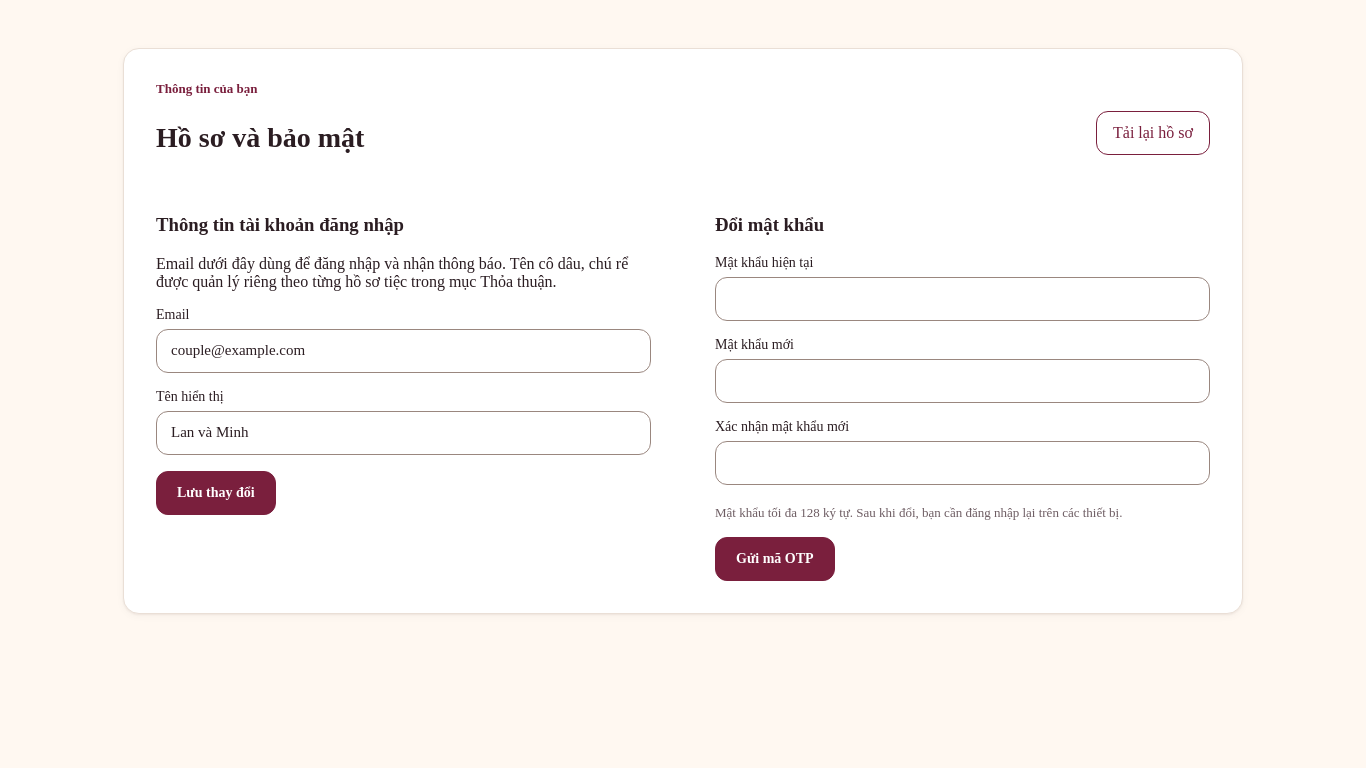
Test: account password OTP errors › shows the server wait, prevents repeated requests and preserves the entered passwords
Type "Initial-password-123" into the password field labelled "Mật khẩu hiện tại" at (962, 299), box x1=715 y1=277 x2=1210 y2=321
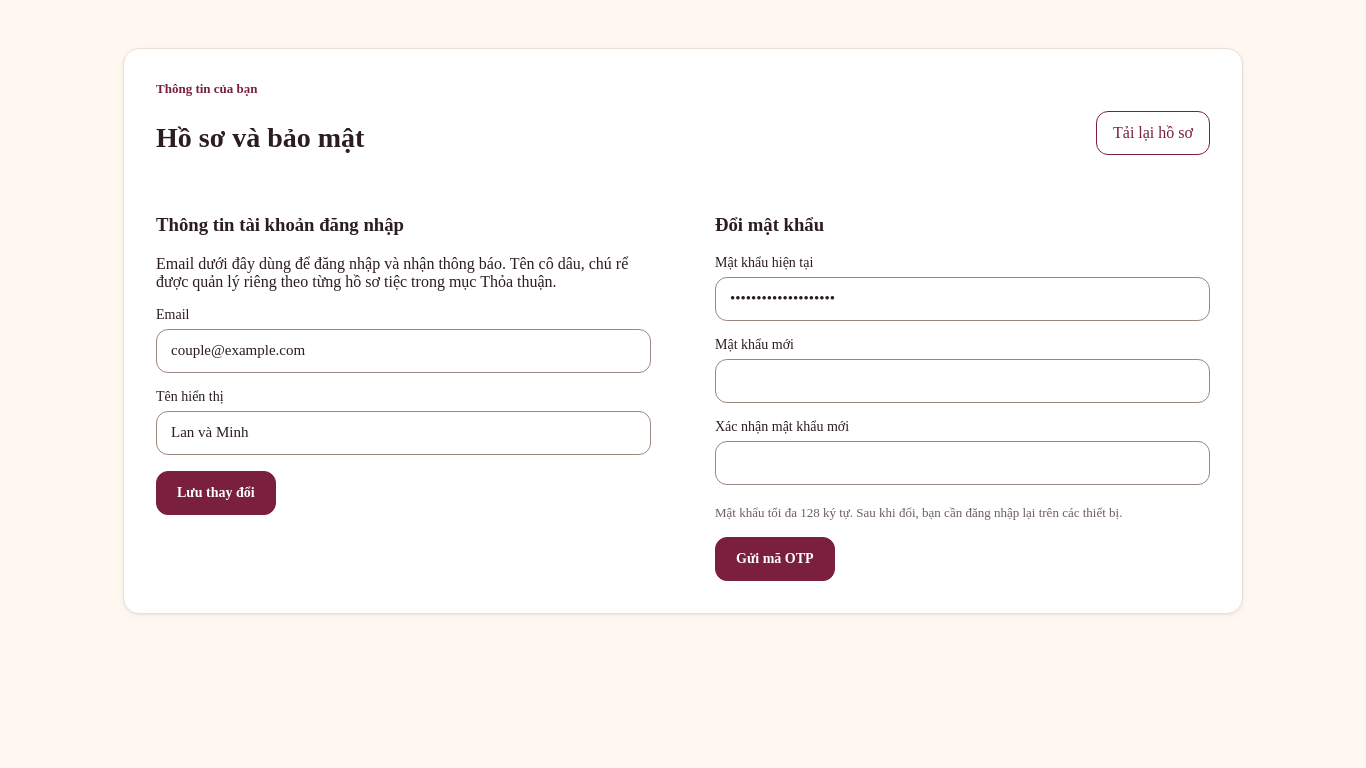
Type "Replacement-password-123" into the password field labelled "Mật khẩu mới" at (962, 381), box x1=715 y1=359 x2=1210 y2=403
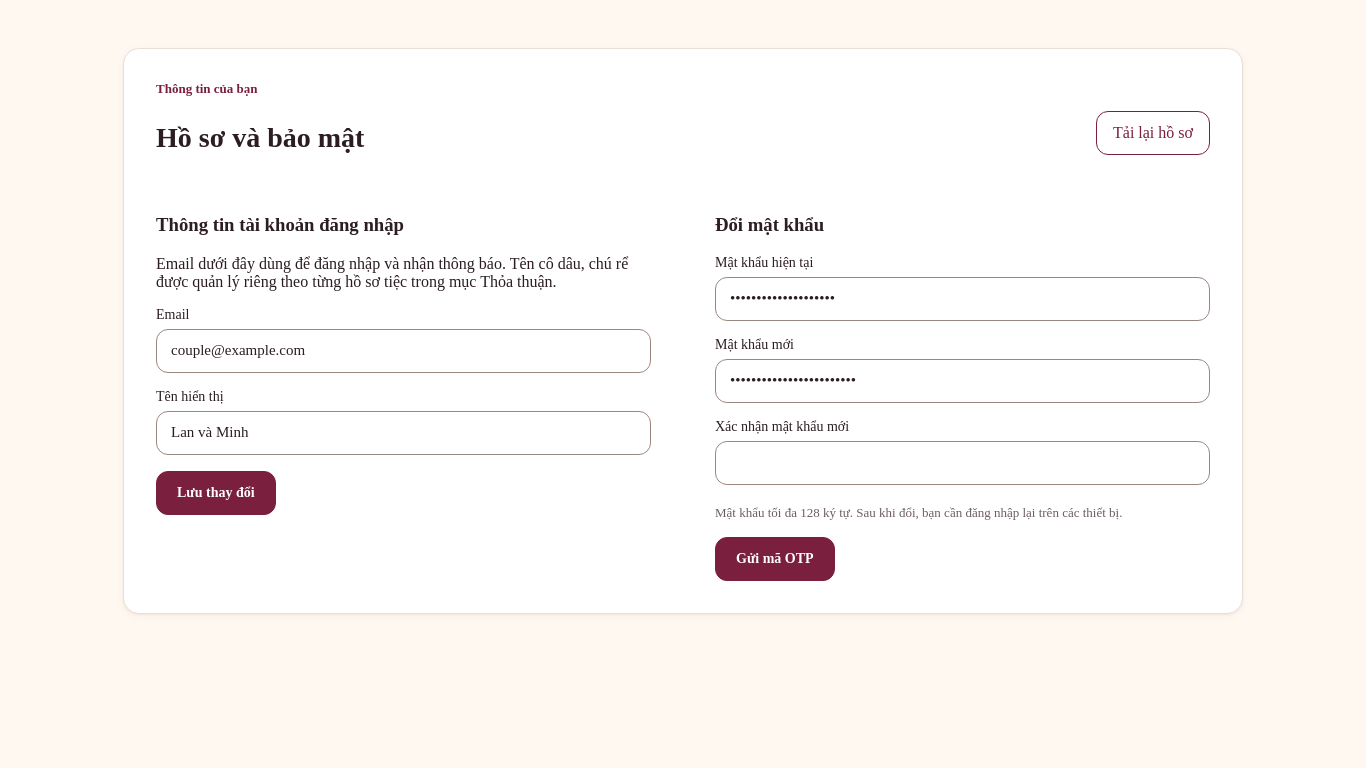
Type "Replacement-password-123" into the password field labelled "Xác nhận mật khẩu mới" at (962, 463), box x1=715 y1=441 x2=1210 y2=485
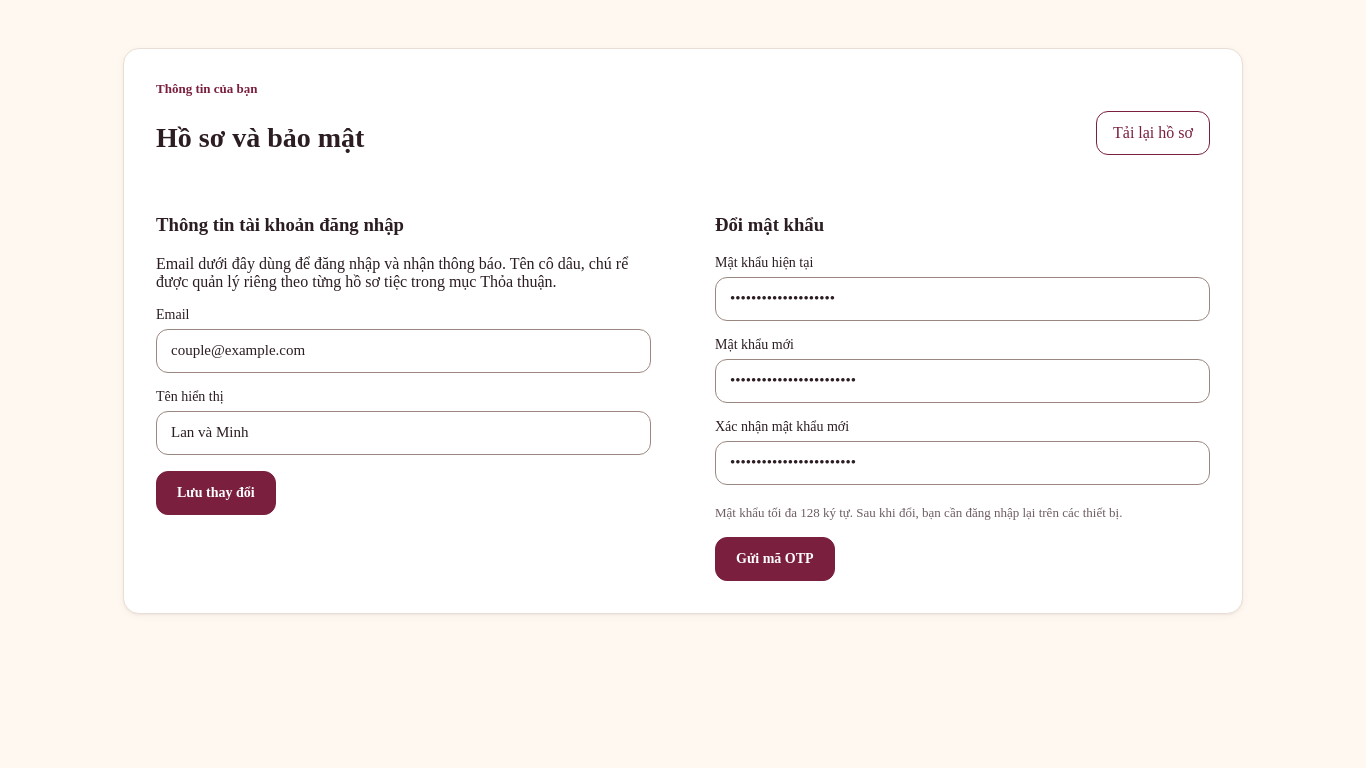
Click the button "Gửi mã OTP" at (775, 559), box x1=715 y1=537 x2=835 y2=581
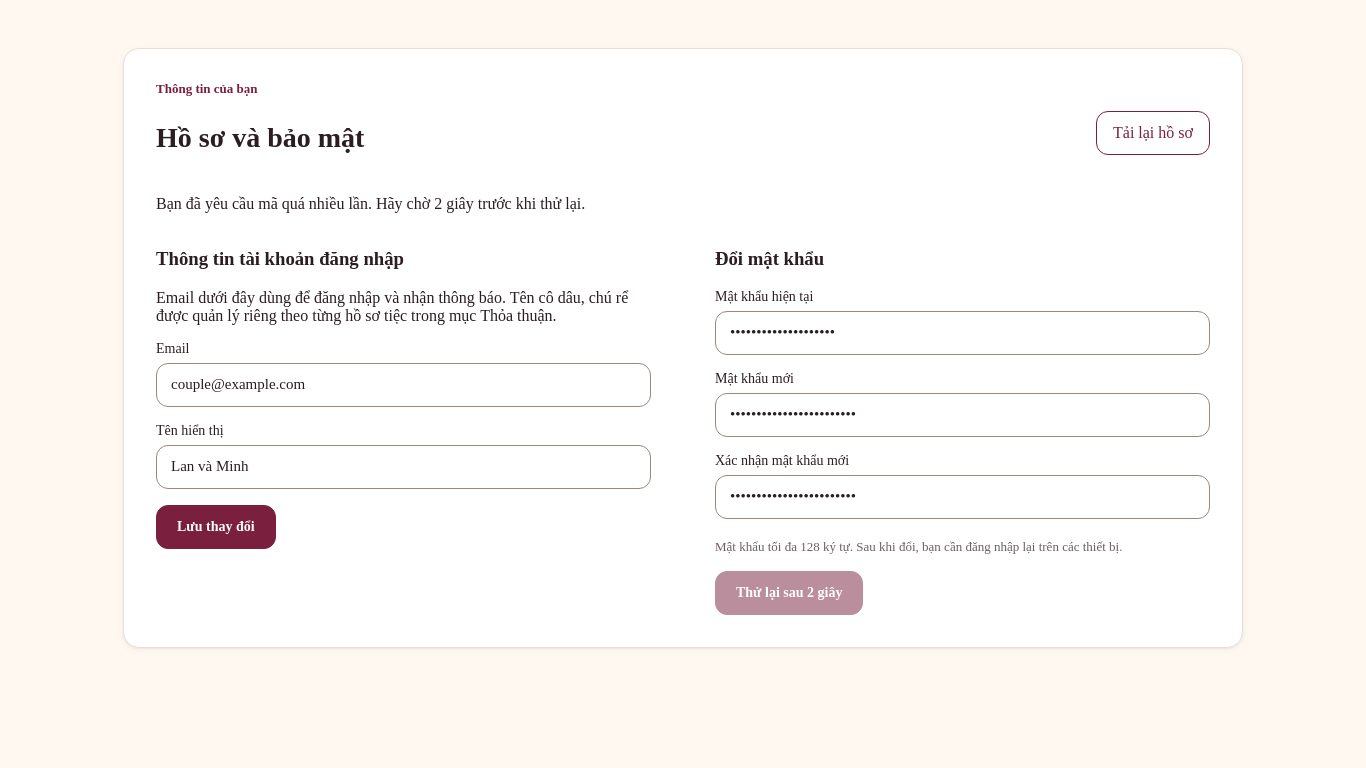
Expected: the message shows "Hãy chờ 2 giây", x1=156 y1=195 x2=585 y2=212
Expected: the button labelled "mã OTP" is gone
Expected: the button "Thử lại sau 2 giây" is disabled
Click the button "Thử lại sau 2 giây" at (789, 593), box x1=715 y1=571 x2=863 y2=615
Wait 2000 ms
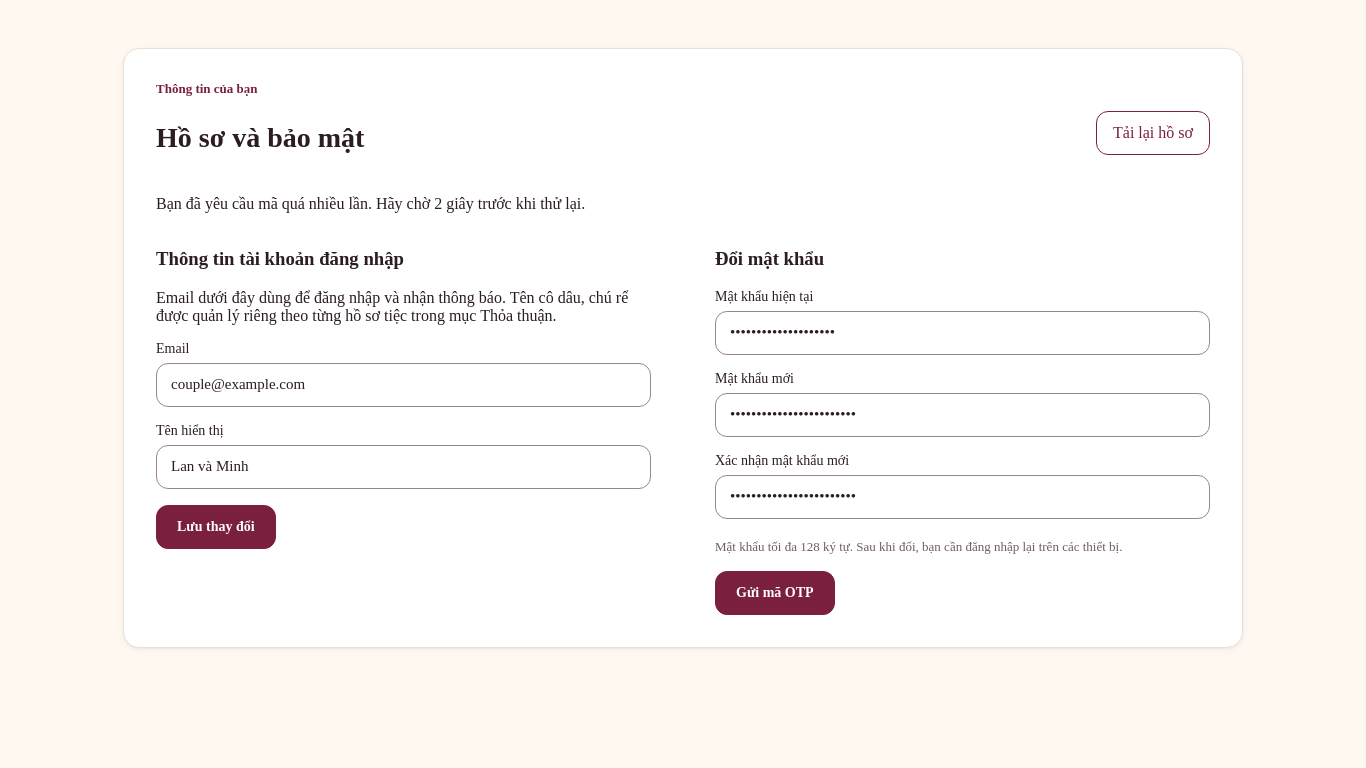
Click the button "Gửi mã OTP" at (775, 593), box x1=715 y1=571 x2=835 y2=615
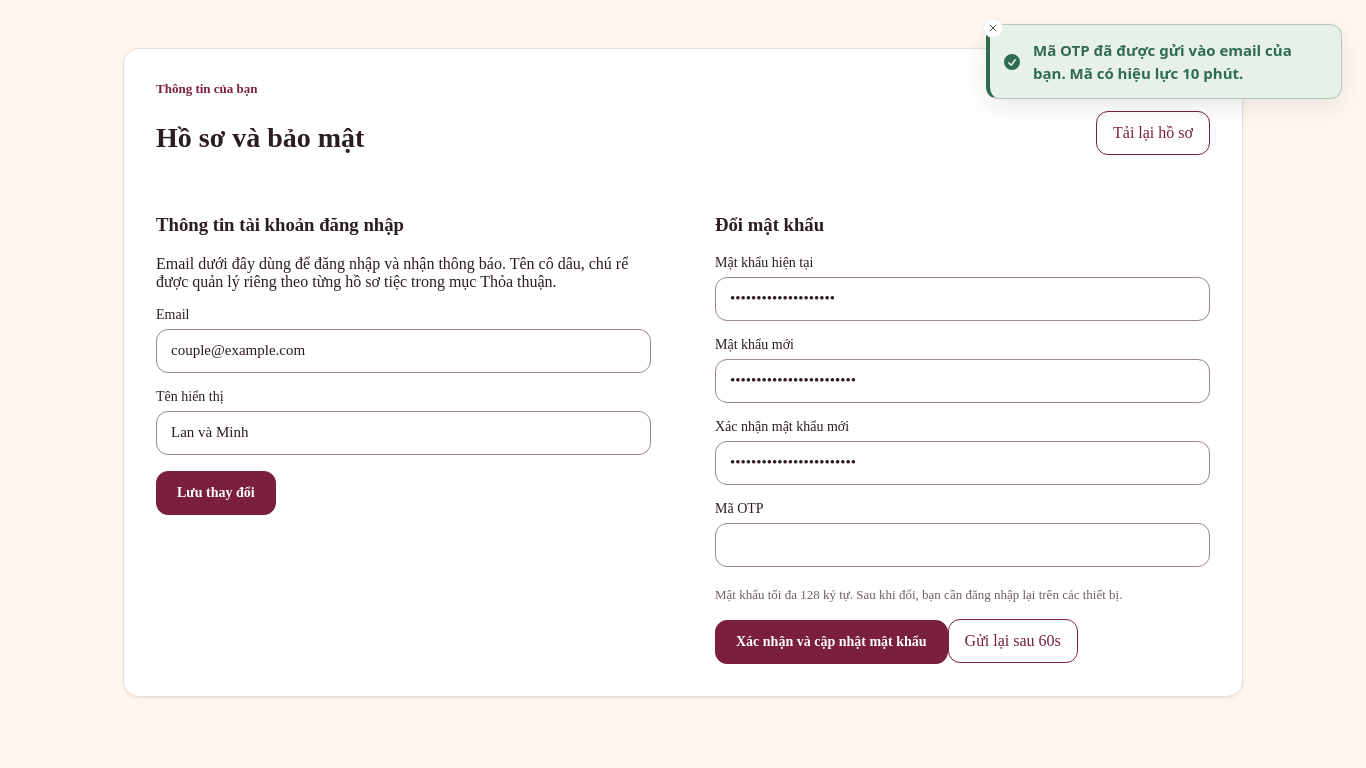
Expected: the field labelled "Mã OTP" is shown, x1=715 y1=523 x2=1210 y2=567
